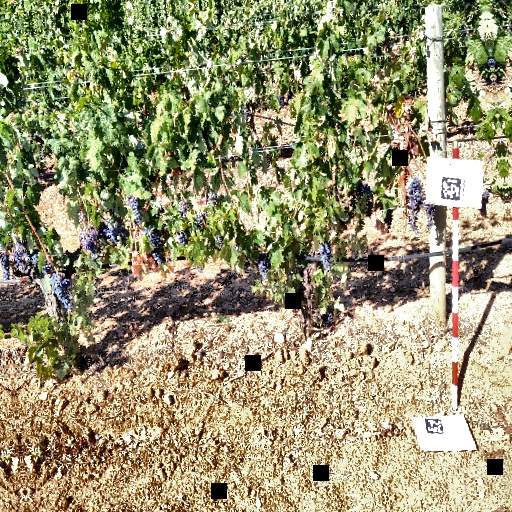QR: (439, 175, 463, 202), (424, 414, 444, 436)
